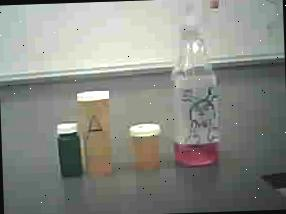Bottle A: (72, 84, 124, 184)
Bottle B: (123, 115, 167, 174)
Bottle C: (52, 117, 89, 178)
hazard: (162, 0, 231, 174)
